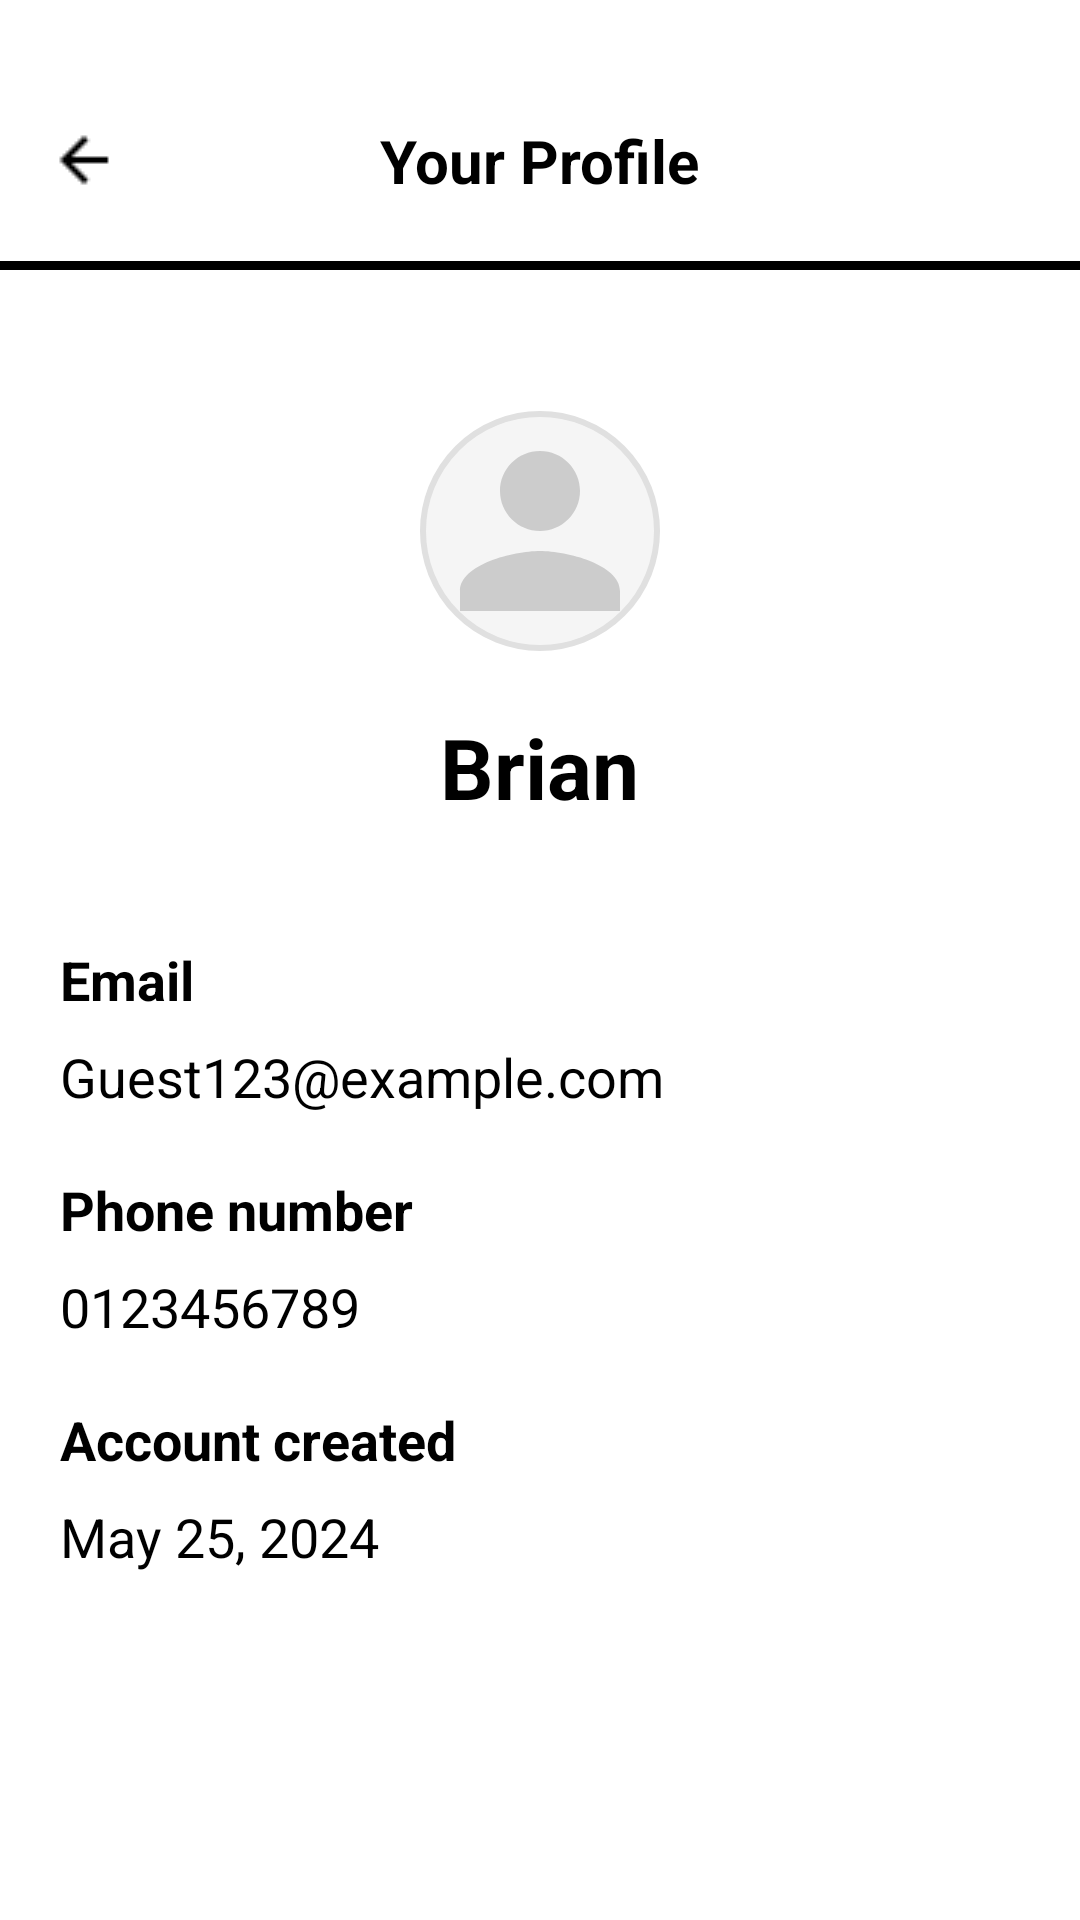

Named icons in this screenshot (1080×1920) and their bounding boxes, (x1, y1, x2, y2):
Back: (59, 135, 109, 185)
